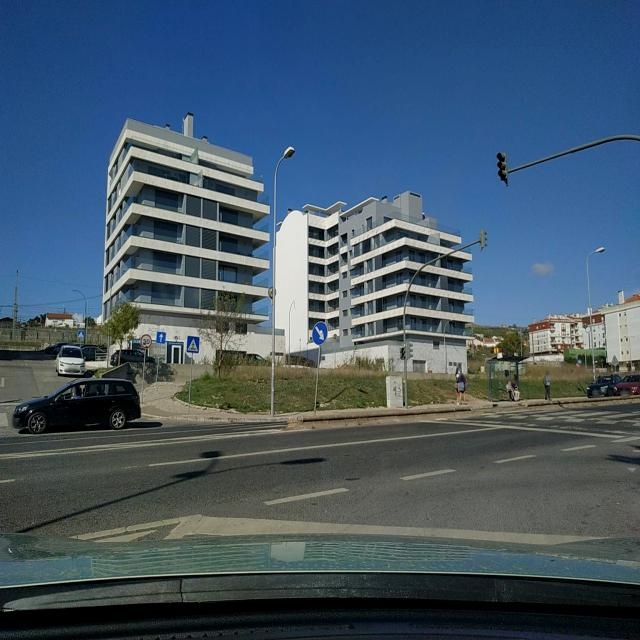car: (12, 378, 142, 434), (56, 345, 86, 377), (586, 374, 622, 398), (613, 373, 640, 396), (44, 344, 59, 354)
